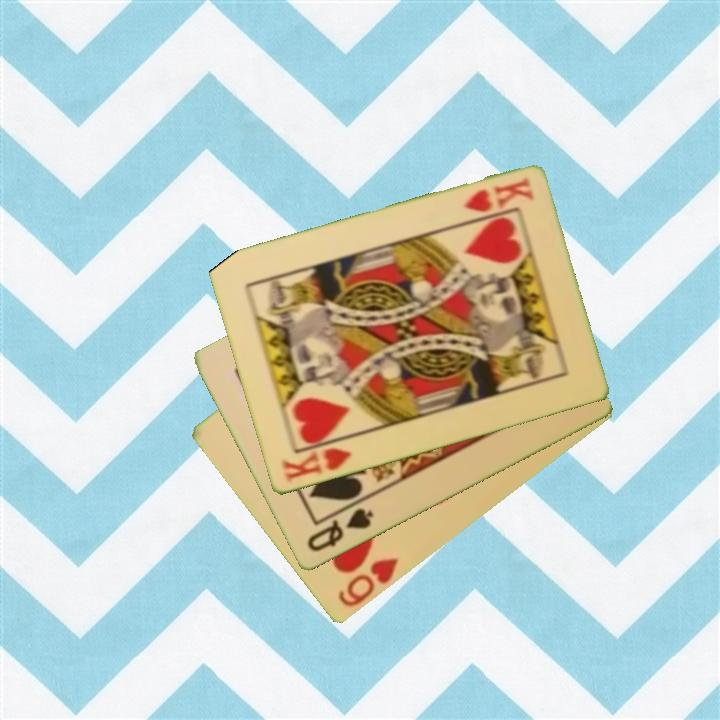6h: (334, 554, 402, 611)
Kh: (279, 434, 355, 486), (460, 174, 537, 216)
Qs: (303, 505, 377, 556)
